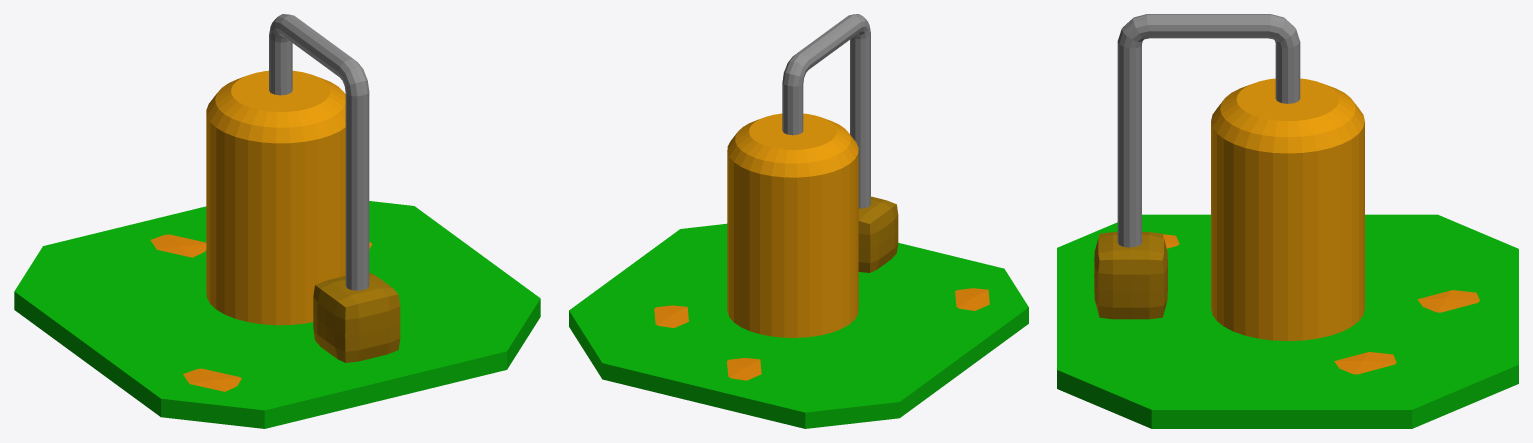
Rendered from HodeyF.fbx.
3 renders of one model, left to right at view 1: azimuth 30°, elevation 25°; view 2: azimuth 150°, elevation 25°; view 3: azimuth 270°, elevation 25°, orthographic. The views are drawn at different scales.
Parts seen in each view (by area): view 1: Cube.001, Cylinder, Plane, Cube, Cube.003, Cube.004; view 2: Cube.001, Cylinder, Plane, Cube, Cube.002, Cube.003, Cube.004; view 3: Cube.001, Cylinder, Plane, Cube, Cube.002, Cube.004.
Part boxes in pixels (x1=…): Cube.001: x1=14, y1=201, x2=540, y2=428; Cylinder: x1=206, y1=70, x2=345, y2=325; Plane: x1=269, y1=14, x2=369, y2=290; Cube: x1=313, y1=273, x2=400, y2=362; Cube.003: x1=183, y1=368, x2=241, y2=391; Cube.004: x1=150, y1=234, x2=206, y2=257; Cube.001: x1=569, y1=223, x2=1028, y2=428; Cylinder: x1=727, y1=113, x2=858, y2=337; Plane: x1=782, y1=14, x2=870, y2=208; Cube: x1=858, y1=196, x2=898, y2=272; Cube.002: x1=654, y1=305, x2=688, y2=327; Cube.003: x1=955, y1=288, x2=989, y2=310; Cube.004: x1=727, y1=358, x2=761, y2=380; Cube.001: x1=1057, y1=214, x2=1518, y2=428; Cylinder: x1=1211, y1=78, x2=1364, y2=340; Plane: x1=1117, y1=14, x2=1300, y2=247; Cube: x1=1094, y1=232, x2=1167, y2=319; Cube.002: x1=1334, y1=352, x2=1396, y2=374; Cube.004: x1=1417, y1=290, x2=1479, y2=312.
Bounding box in the file's own units: 600 × 458 × 600.
